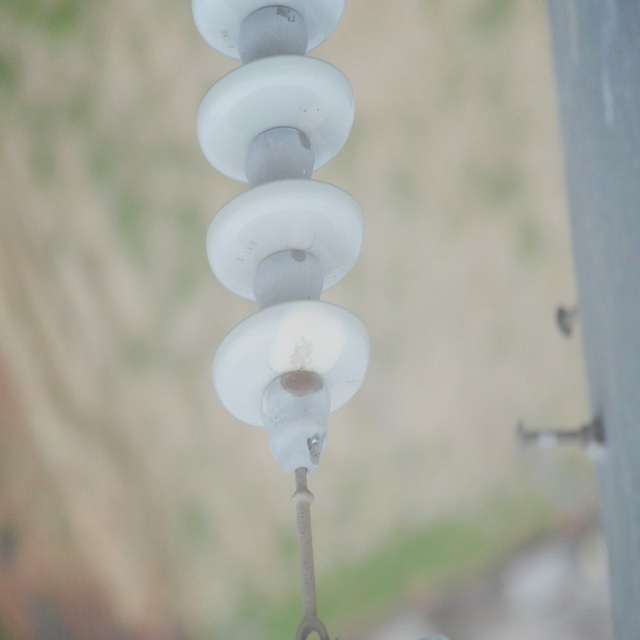insulator: (190, 0, 370, 432)
